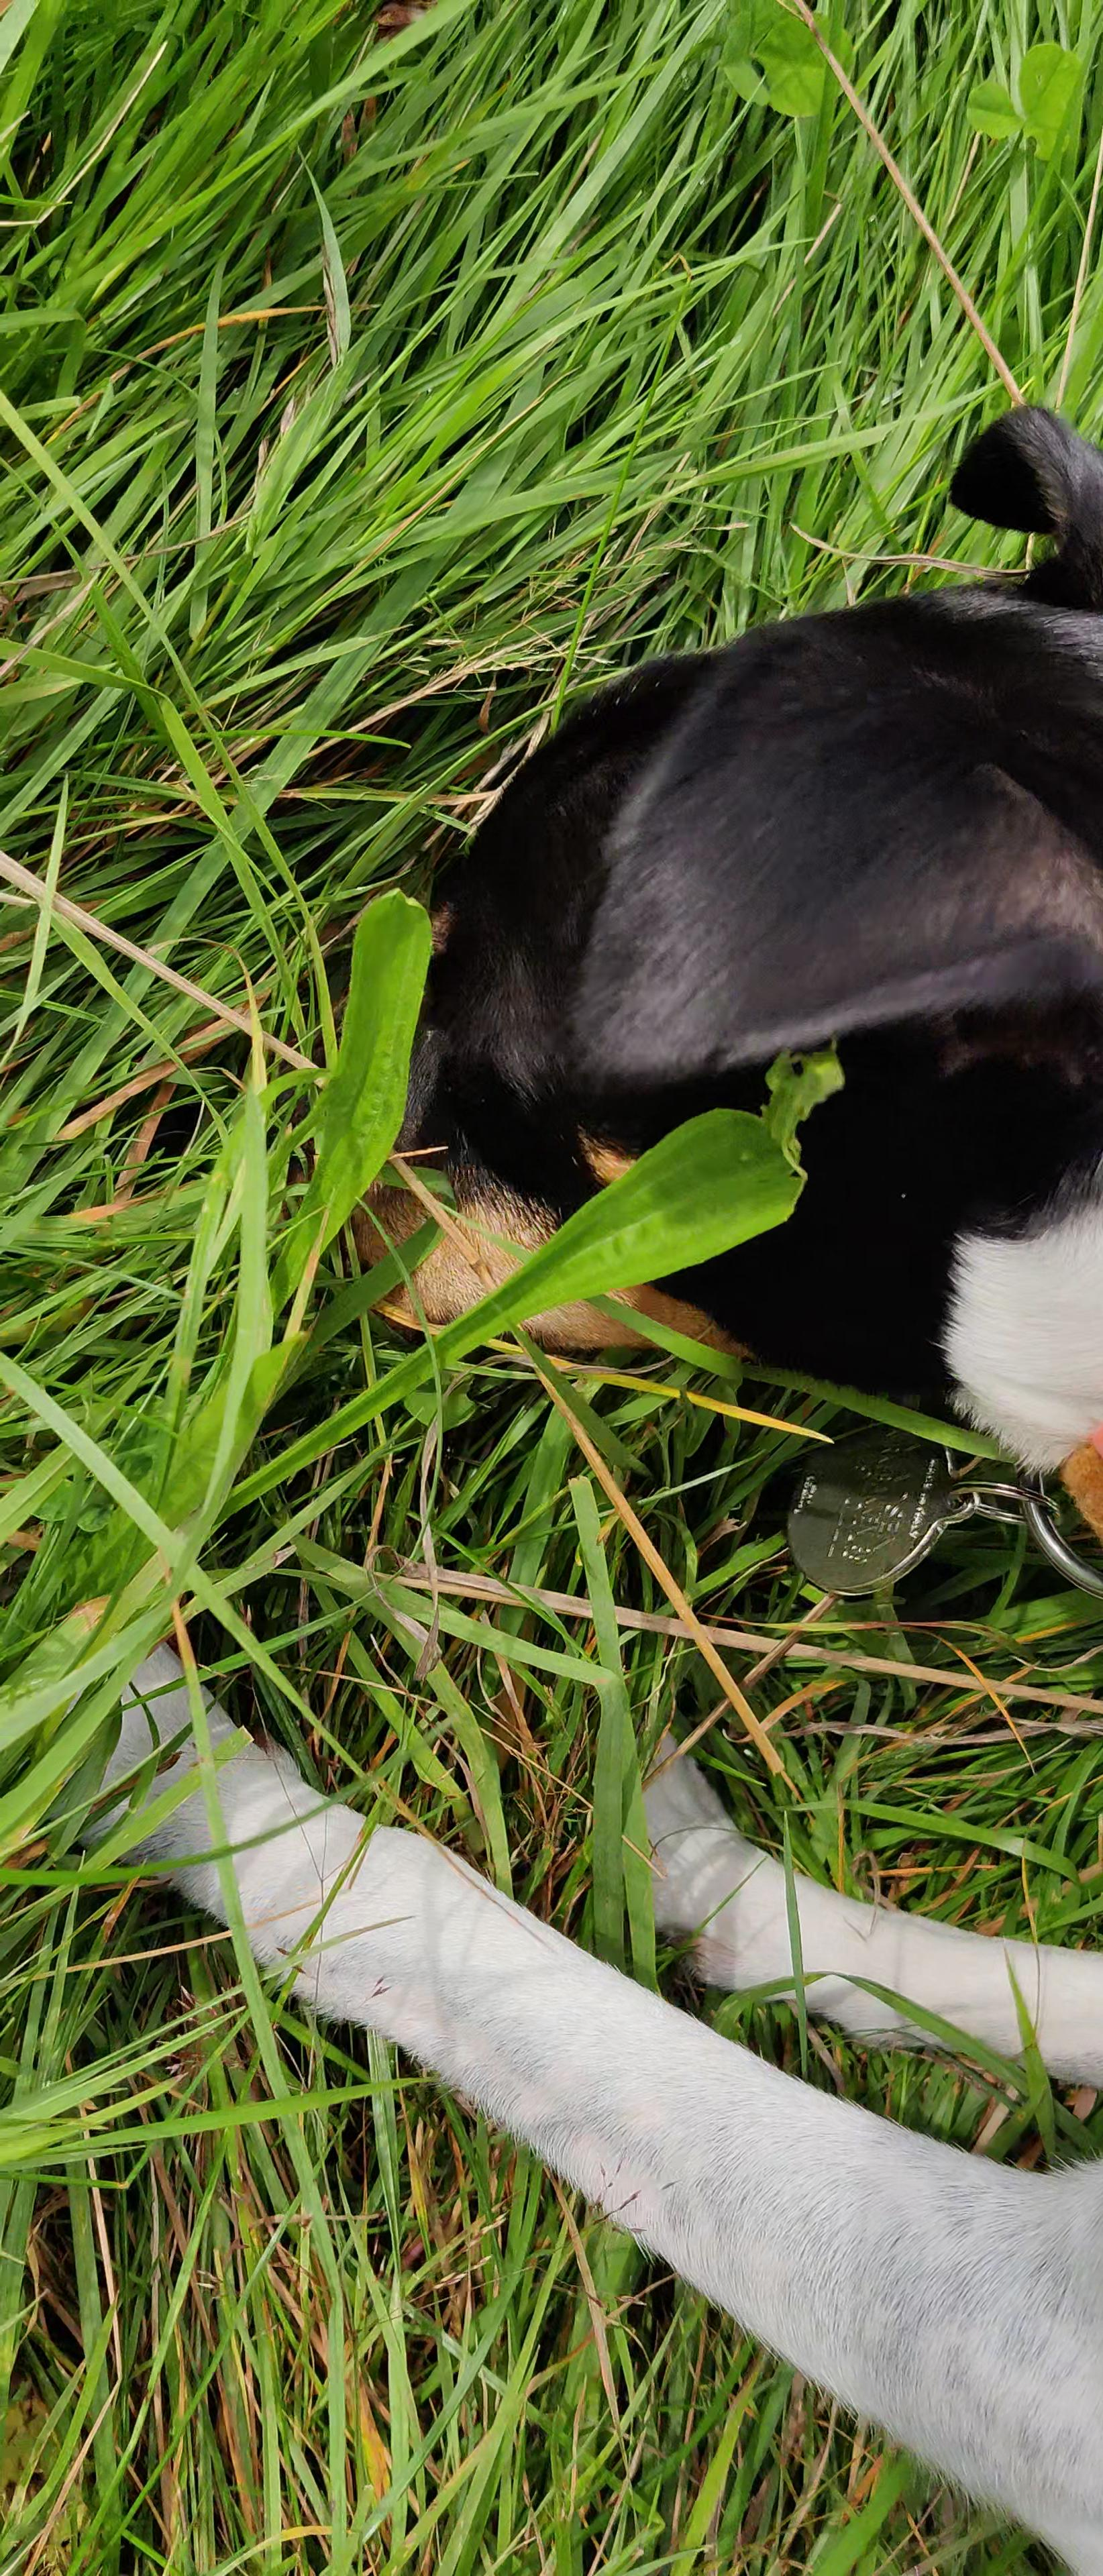Dog: (51, 319, 1103, 2576)
